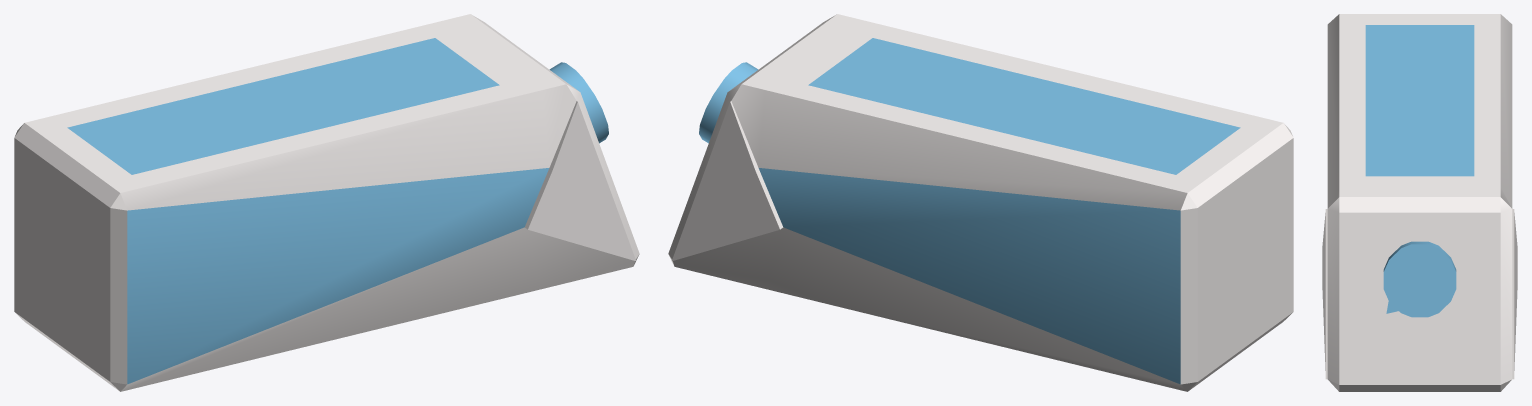
Rendered from model_caixaleite_01.fbx.
The picture shows the model from 3 angles, left to right: view 1: azimuth 30°, elevation 25°; view 2: azimuth 150°, elevation 25°; view 3: azimuth 270°, elevation 25°; orthographic projection. The views are drawn at different scales.
Parts seen in each view (by area): view 1: Caixa de Leite.003; view 2: Caixa de Leite.003; view 3: Caixa de Leite.003.
Part boxes in pixels (left/top/right/bottom): Caixa de Leite.003: left=14, top=14, right=639, bottom=391; Caixa de Leite.003: left=668, top=14, right=1293, bottom=391; Caixa de Leite.003: left=1322, top=14, right=1517, bottom=391.
Bounding box in the file's own units: 1.23 × 0.439 × 0.4648.
